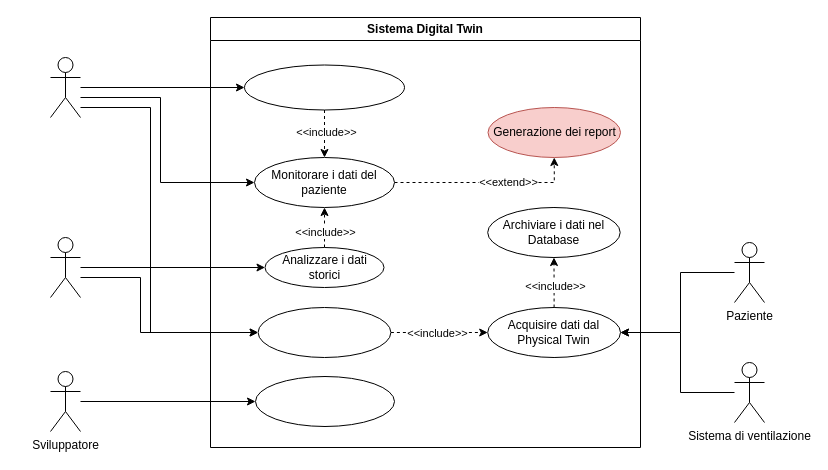
Some shapes in this 828 by 470 pixel diagram are drawn without their labels. Here are the shapes that lost their labels. From the top down, the centre of each, then its label:
[65,87]: Operatore medico
[324,87]: Inviare istruzioni al ventilatore
[65,267]: Ricercatore
[324,332]: Inizializzare la simulazione
[324,401]: Configurare la pipeline Kafka/ZeroMQ
